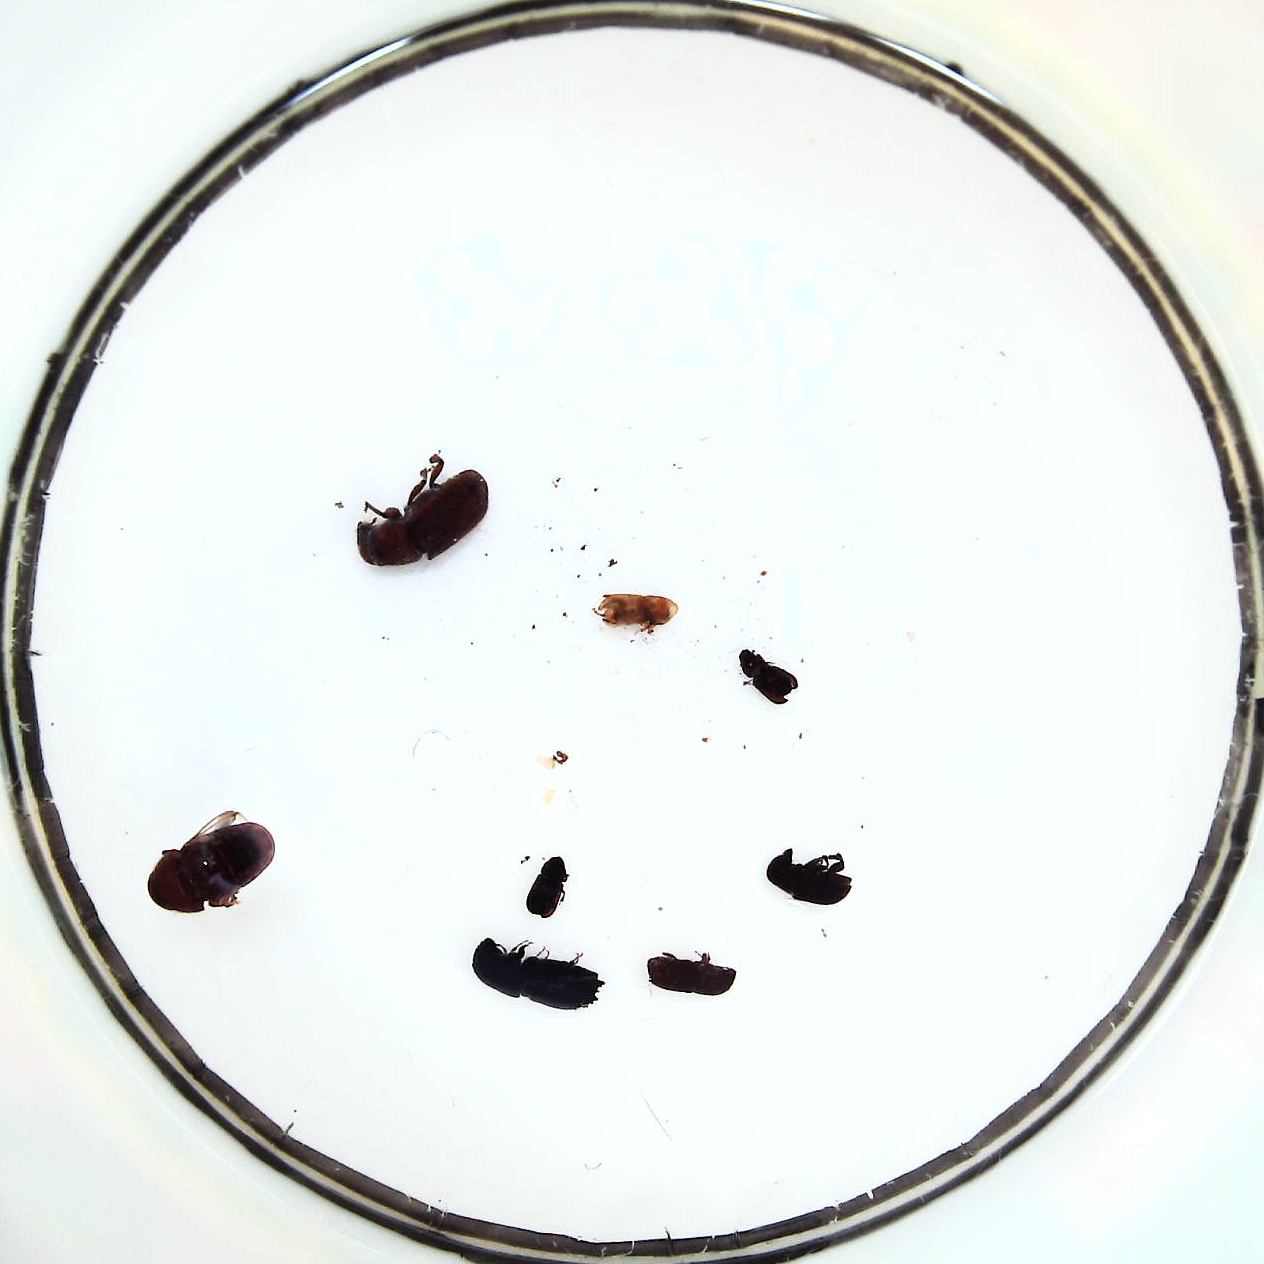Boerner: (472, 938, 605, 1011)
Leconte: (357, 469, 488, 566), (146, 822, 275, 913)
acuminatus: (738, 649, 796, 706), (526, 858, 569, 919)
armandi: (767, 848, 851, 905)
coleoptera: (598, 593, 679, 630)
linnaeus: (646, 955, 736, 995)
